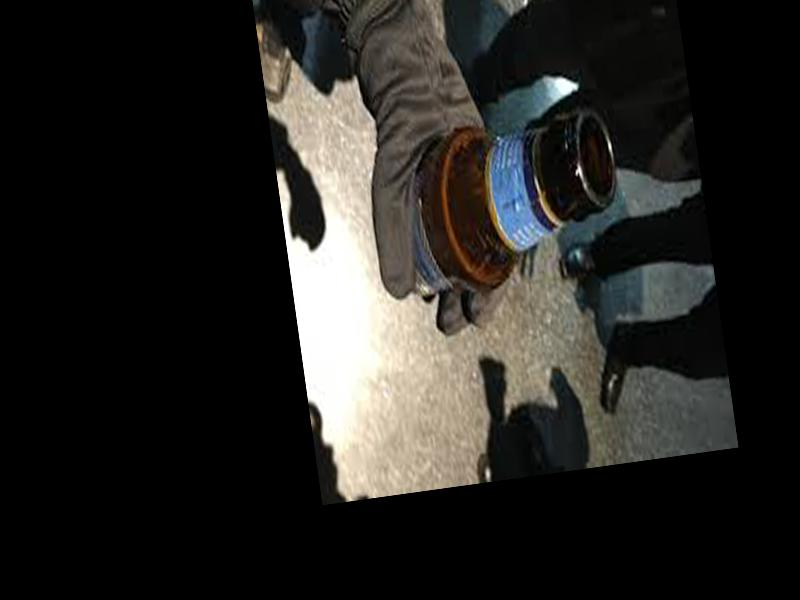Beer: (375, 101, 631, 311)
